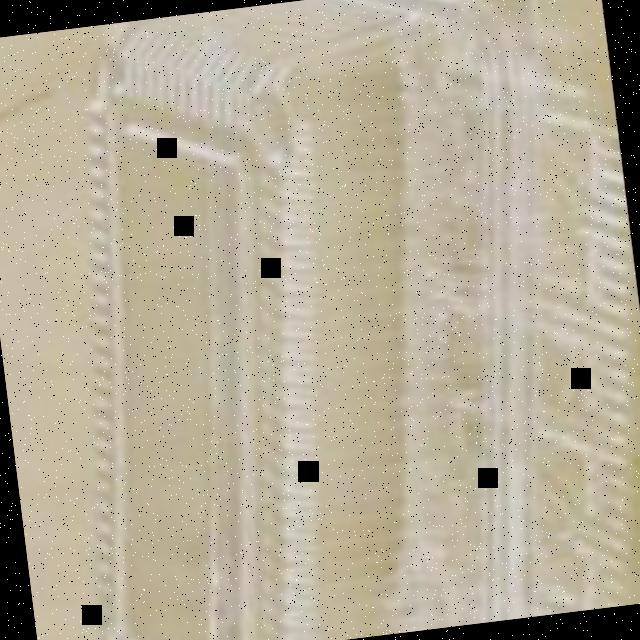plastic_box: (24, 0, 640, 640)
